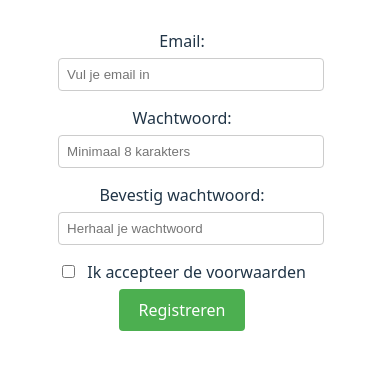
Test: RegistrationForm › should only accept passwords that are at least 8 characters
This screenshot has width=382, height=368.
Type "user@example.com" into the field with id "email" at (191, 74), box [58, 58, 324, 91]
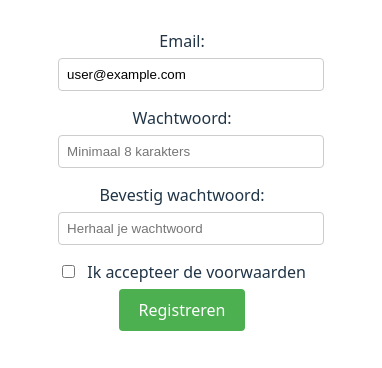
Type "pass" into the password field labelled "Wachtwoord:" at (191, 152), box [58, 135, 324, 168]
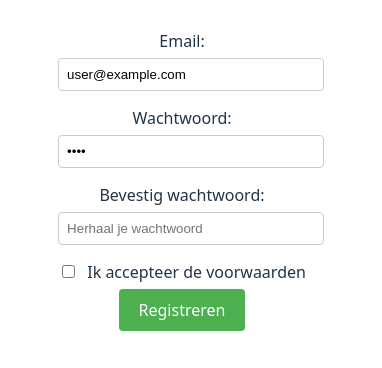
Type "pass" into the password field with id "confirmPassword" at (191, 228), box [58, 212, 324, 245]
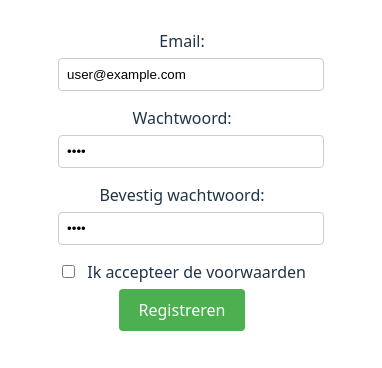
Click the checkbox with id "acceptTerms" at (69, 272), box [62, 265, 75, 278]
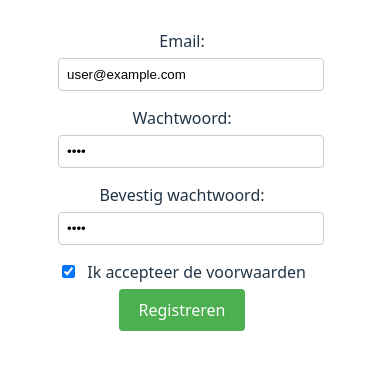
Submit the form, box [58, 29, 306, 331]
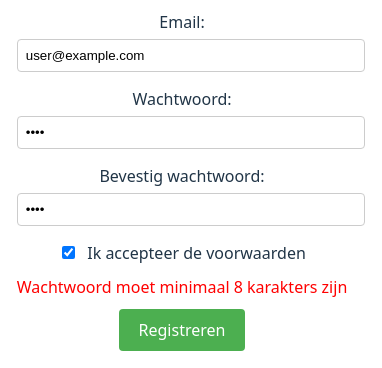
expect the text "Wachtwoord moet minimaal 8 karakters zijn" is shown: met, box [17, 274, 347, 298]
expect the text with class "error" reads "Wachtwoord moet minimaal 8 karakters zijn": met, box [17, 276, 347, 298]
